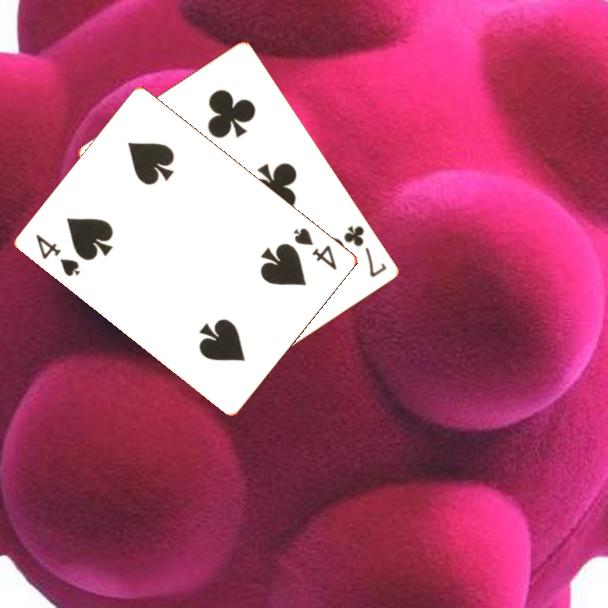c07: (340, 222, 390, 280)
s04: (290, 224, 340, 273), (33, 231, 84, 279)
